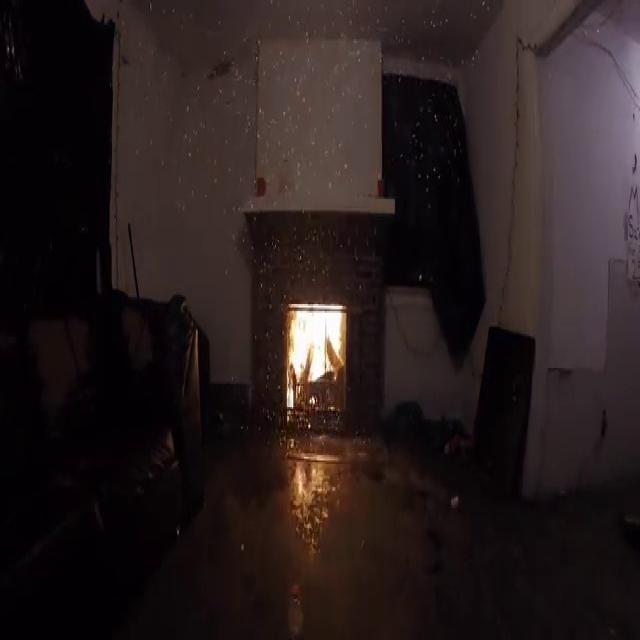fire: (280, 294, 351, 435)
